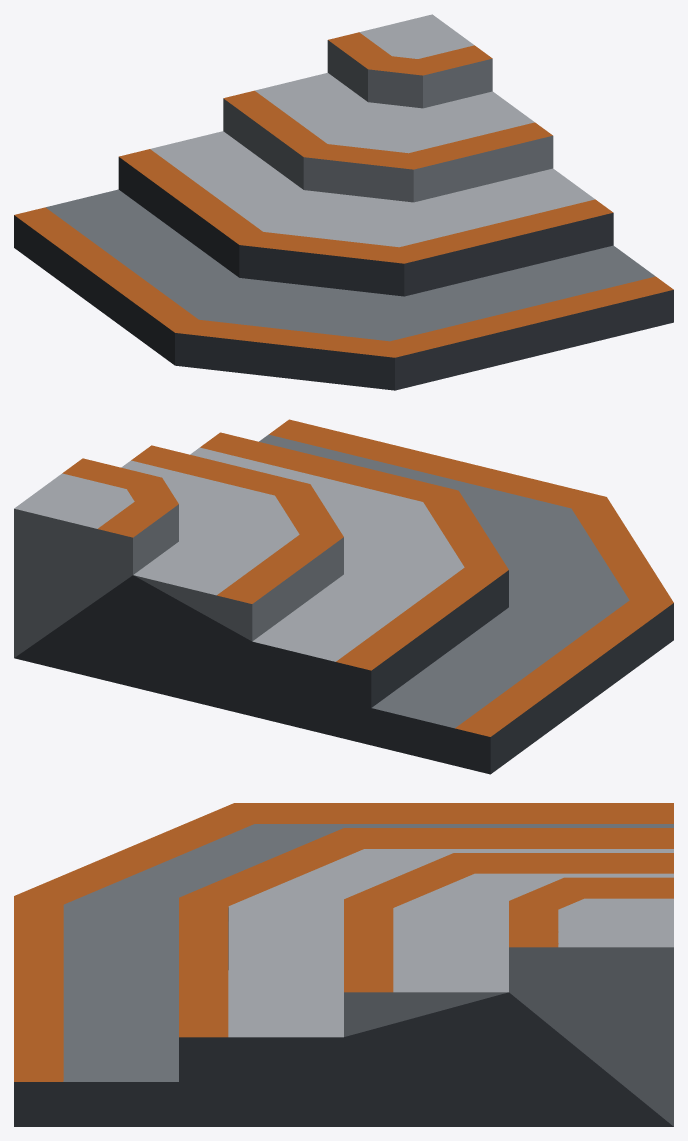
Rendered from Kit_stairs-corner.fbx.
3 views of the same model, one above another, from view 1: azimuth 30°, elevation 25°; view 2: azimuth 150°, elevation 25°; view 3: azimuth 270°, elevation 25° (orthographic). The views are drawn at different scales.
Parts seen in each view (by area): view 1: Kit_stairs-corner; view 2: Kit_stairs-corner; view 3: Kit_stairs-corner.
Boxes of the visible parts, x1,y1,x2,y2 form: Kit_stairs-corner: [14, 14, 673, 390]; Kit_stairs-corner: [14, 419, 673, 774]; Kit_stairs-corner: [14, 803, 673, 1126].
Size of the model in its own units: 1 by 0.3 by 1.
